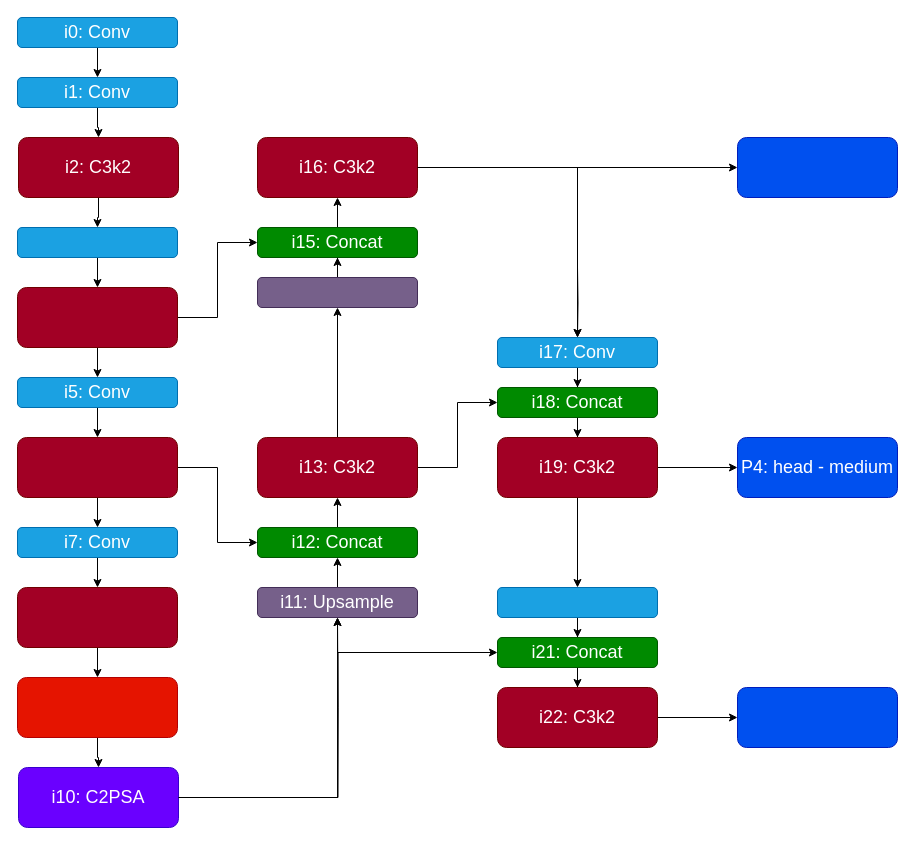
Some shapes in this 915 by 845 pixel diagram are drawn without their labels. The centre of each missing label's shape, as x and y in pixels:
i14: Upsample: the point at 337,292
i20: Conv: the point at 577,602
i3: Conv: the point at 97,242
i4: C3k2: the point at 97,317
i6: C3k2: the point at 97,467
i8: C3k2: the point at 97,617
i9: SPPF: the point at 97,707
P3: head - small: the point at 817,167
P5: head - large: the point at 817,717
